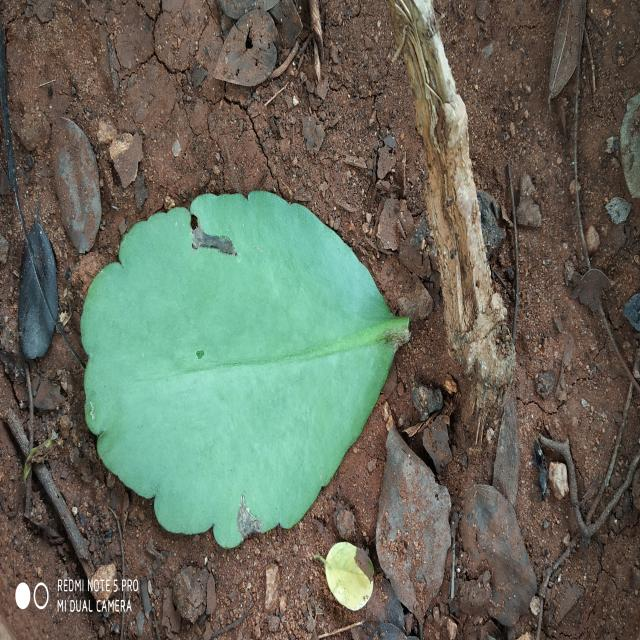defectedspinach: (190, 213, 236, 256), (236, 493, 262, 540)
spinach: (81, 191, 409, 549)
